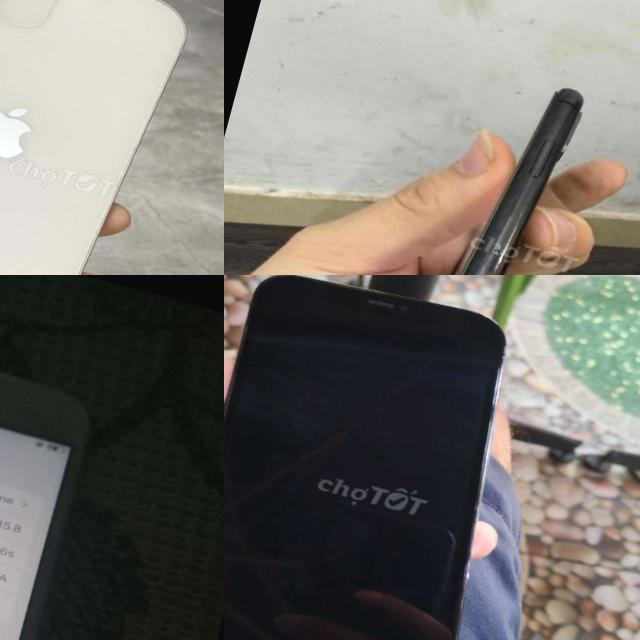gen_12_13: (224, 275, 553, 640), (0, 0, 212, 275)
gen_6: (0, 288, 133, 640)
gen_x_xs: (449, 88, 582, 275)
